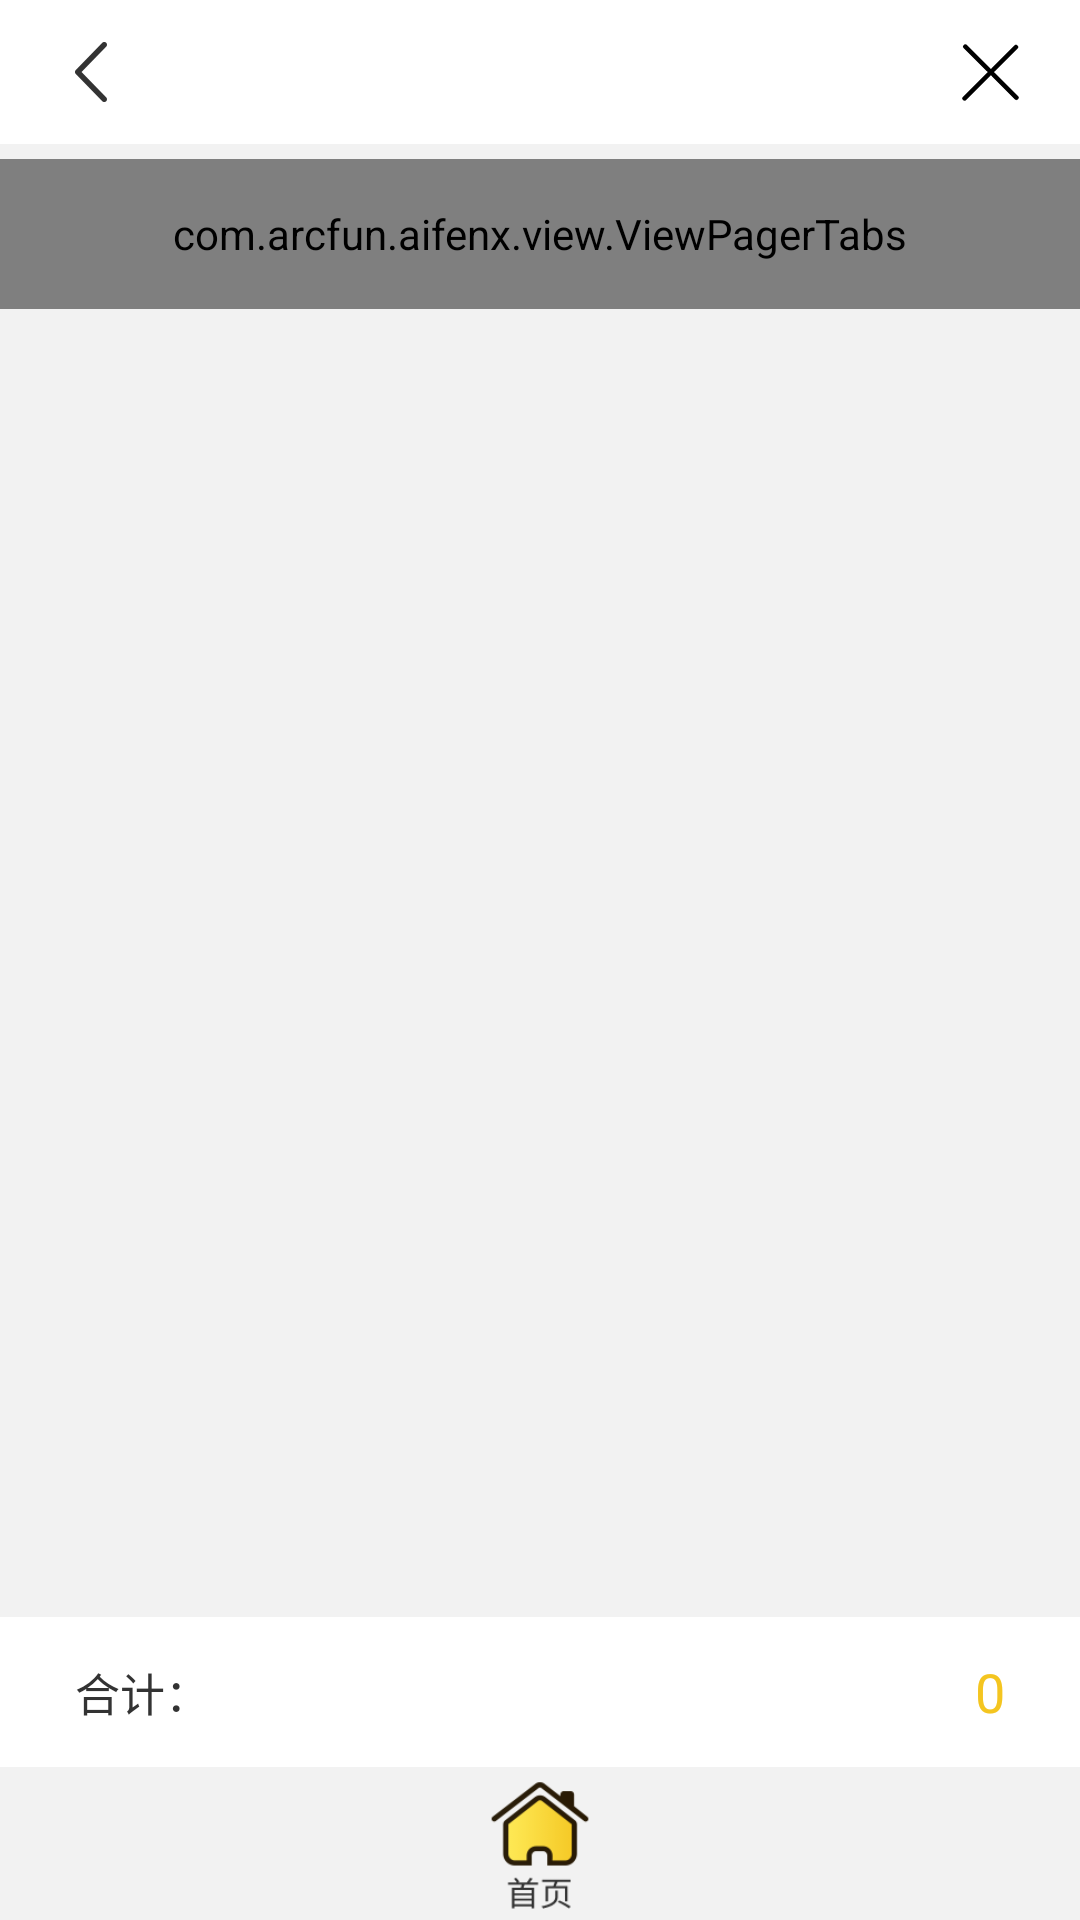

Icons on this 1080*1920 Android screen, each with its box as (left=x1, top=y1, right=x2, bottom=y2):
上一步: (left=75, top=42, right=107, bottom=102)
